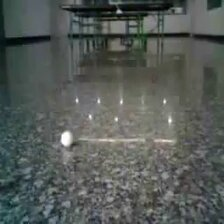w: (60, 133, 73, 147)
